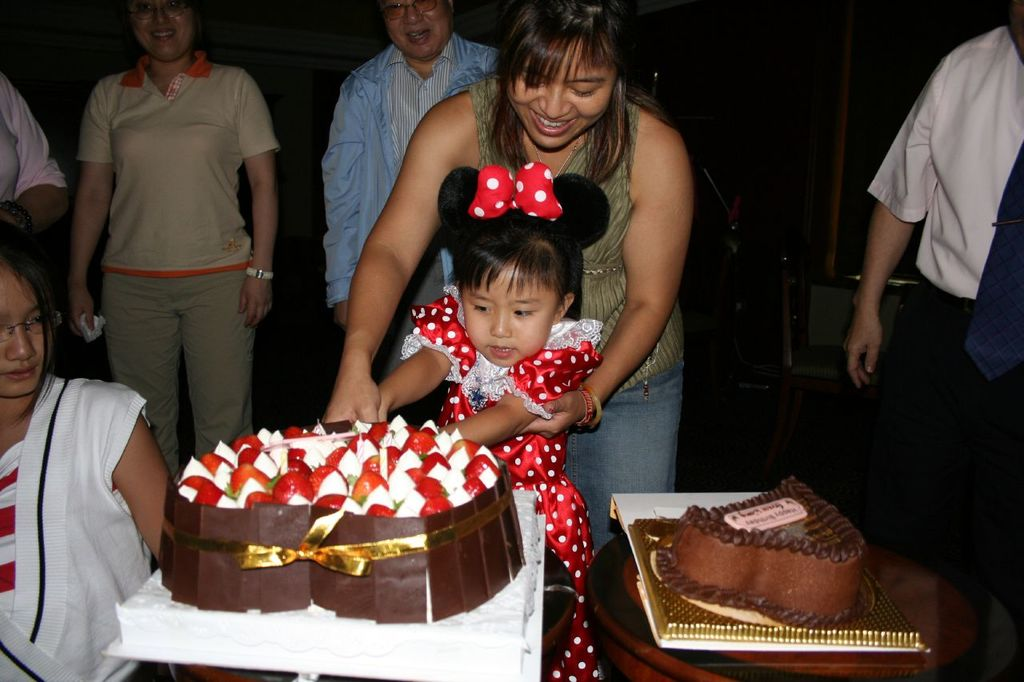cake: (160, 418, 526, 624), (677, 473, 869, 623)
